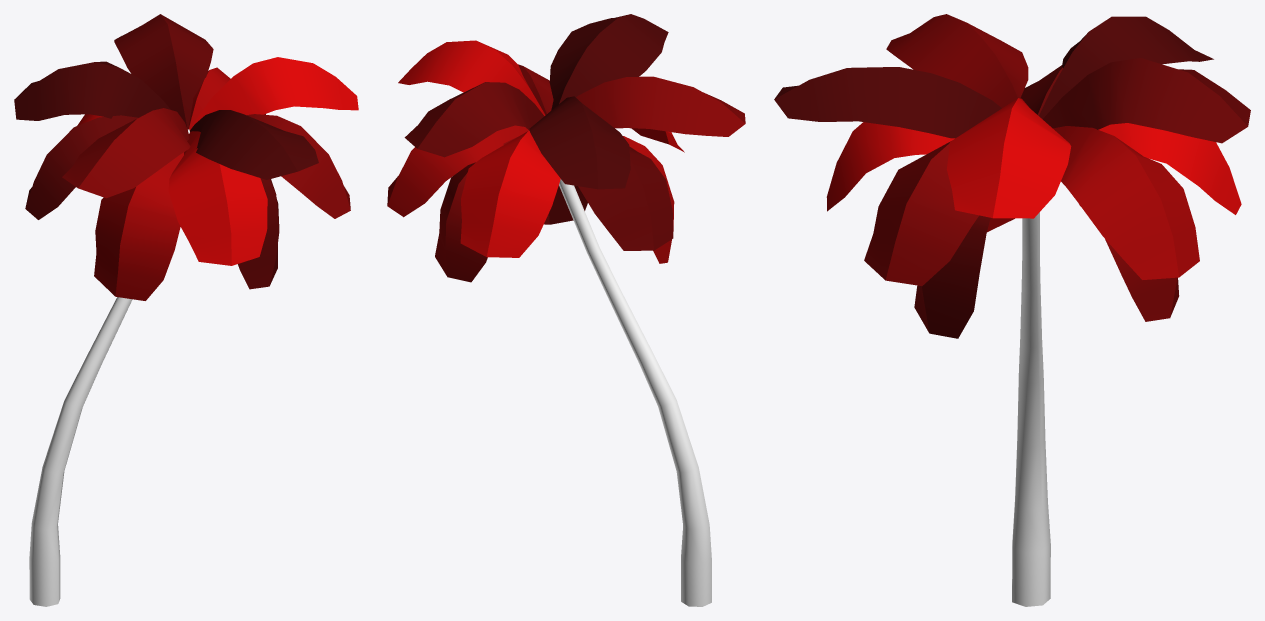
The model's file is Fbx_PalmTree_3.fbx.
The picture shows the model from 3 angles, left to right: view 1: azimuth 30°, elevation 25°; view 2: azimuth 150°, elevation 25°; view 3: azimuth 270°, elevation 25°; orthographic projection. The views are drawn at different scales.
Parts seen in each view (by area): view 1: Tree_3; view 2: Tree_3; view 3: Tree_3.
Boxes of the visible parts, x1,y1,x2,y2 form: Tree_3: (14,14,358,606); Tree_3: (387,14,745,606); Tree_3: (774,14,1250,606).
Size of the model in its own units: 3.07 by 4.77 by 3.2.
